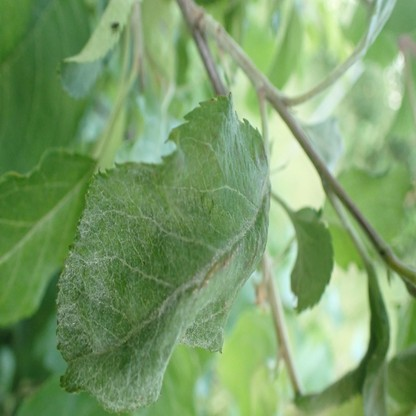powder: (56, 94, 271, 408)
